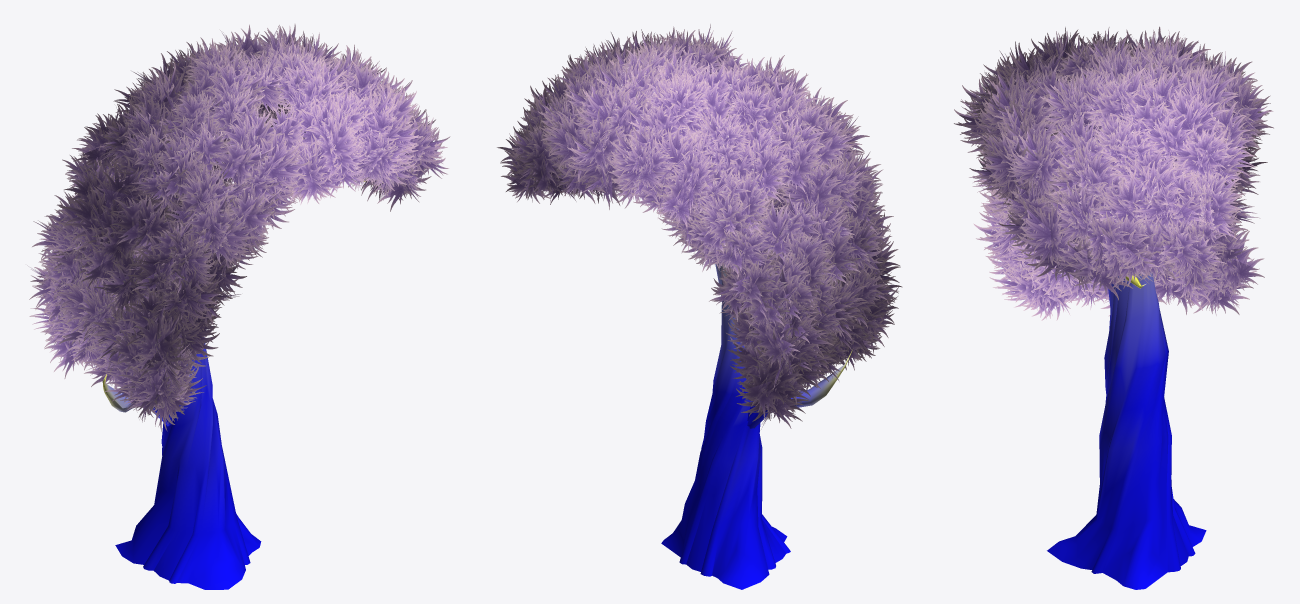
File: Birow.fbx
The picture shows the model from 3 angles, left to right: view 1: azimuth 30°, elevation 25°; view 2: azimuth 150°, elevation 25°; view 3: azimuth 270°, elevation 25°; orthographic projection. The views are drawn at different scales.
Parts seen in each view (by area): view 1: Birow_LOD0; view 2: Birow_LOD0; view 3: Birow_LOD0.
Boxes of the visible parts, <box> form: Birow_LOD0: <box>27,24,450,589</box>; Birow_LOD0: <box>497,24,902,589</box>; Birow_LOD0: <box>954,26,1273,589</box>.
Size of what is drawn, in the model's own units: 405 by 527 by 300.
